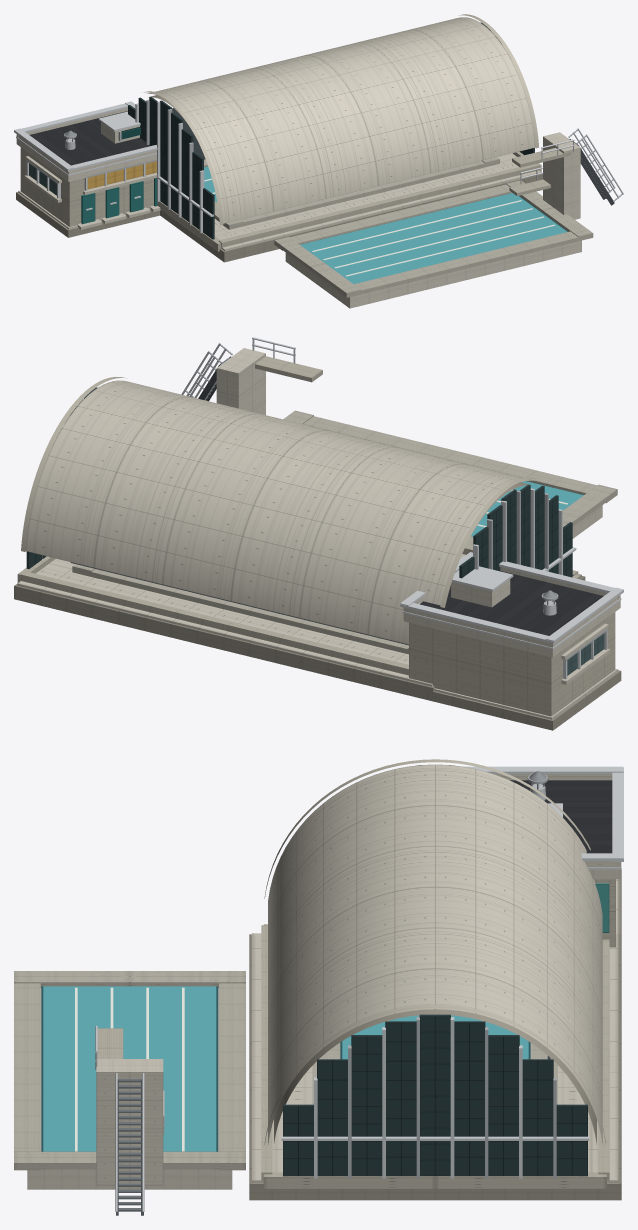
File: civic-atomic-age-swimming-pool-built.glb
The picture shows the model from 3 angles, top to bottom: view 1: azimuth 30°, elevation 25°; view 2: azimuth 150°, elevation 25°; view 3: azimuth 270°, elevation 25°; orthographic projection. The views are drawn at different scales.
Bounding box in the file's own units: 37.35 × 10.19 × 27.36.
39 materials, 27 textured.
